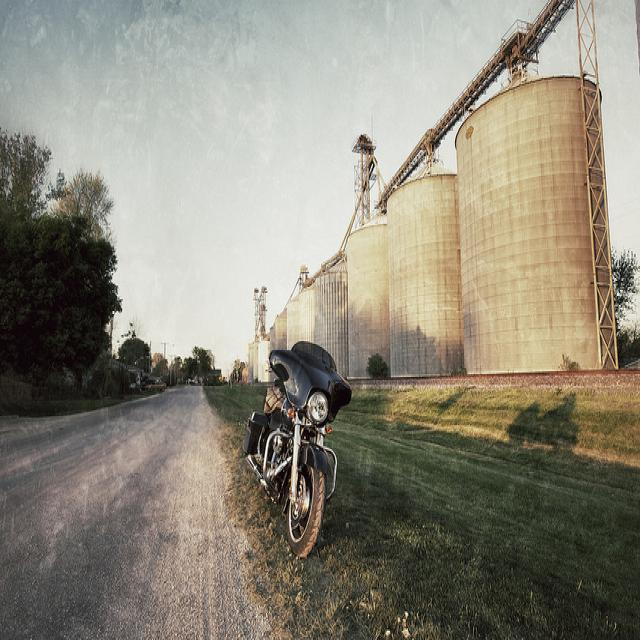motor: (243, 343, 351, 558)
